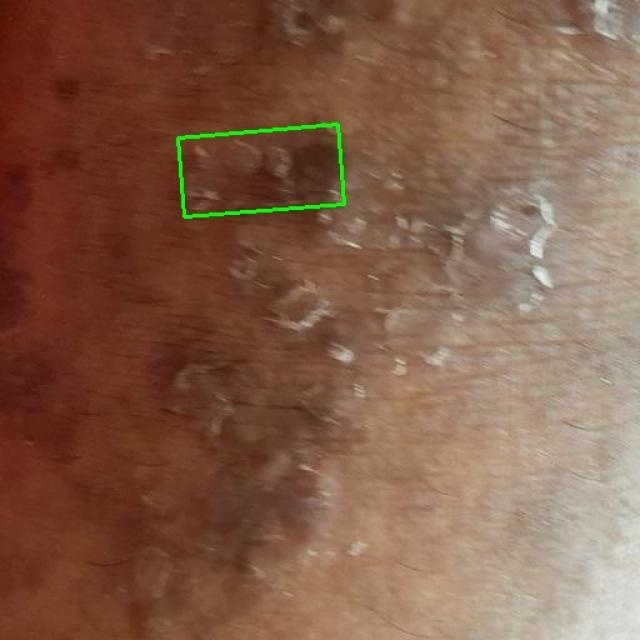Tinea Corporis: (178, 124, 344, 217)
